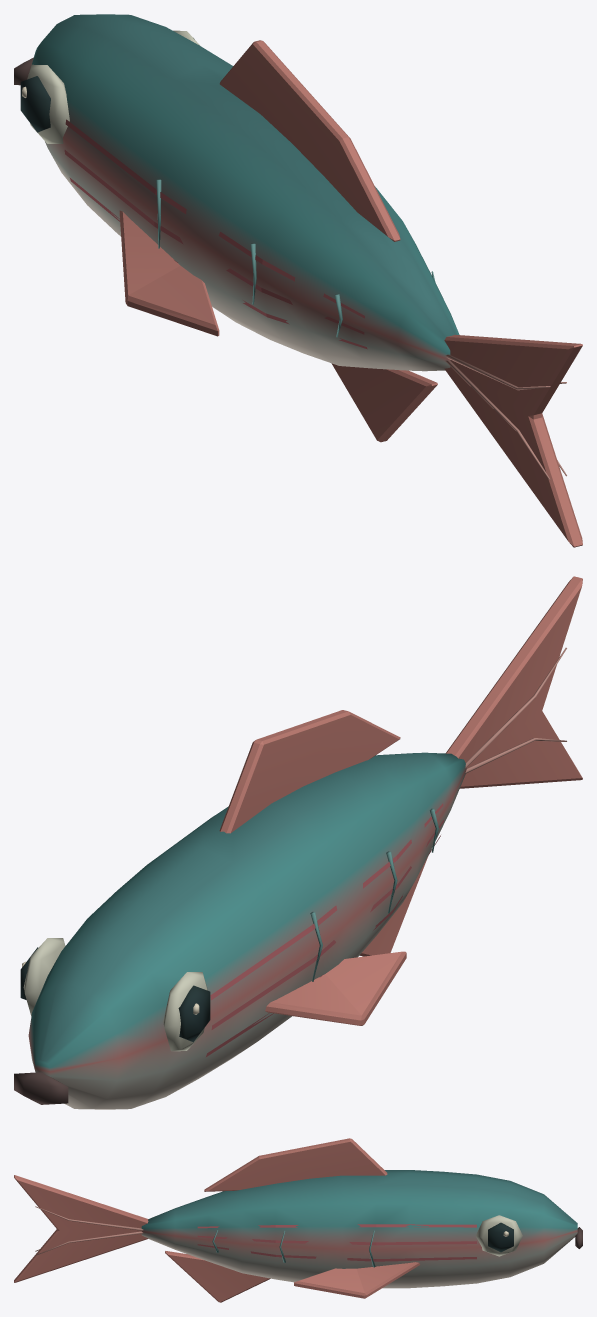
The model's file is fish_pale_chub.glb.
3 renders of one model, top to bottom at view 1: azimuth 30°, elevation 25°; view 2: azimuth 150°, elevation 25°; view 3: azimuth 270°, elevation 25°, orthographic. The views are drawn at different scales.
Size of the model in its own units: 0.0353 by 0.0441 by 0.1398.
